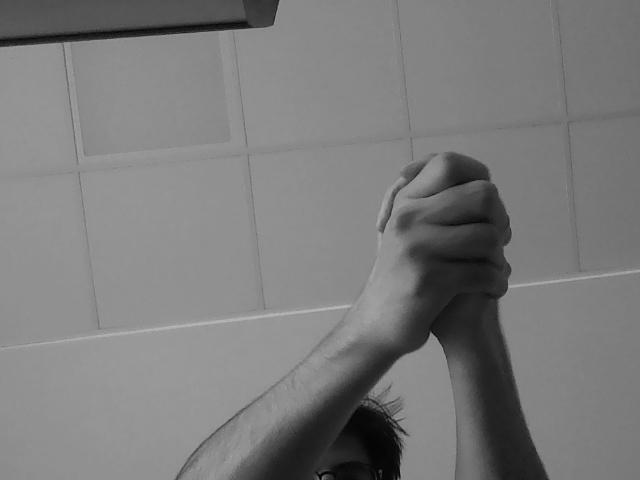friend: (368, 155, 522, 362)
